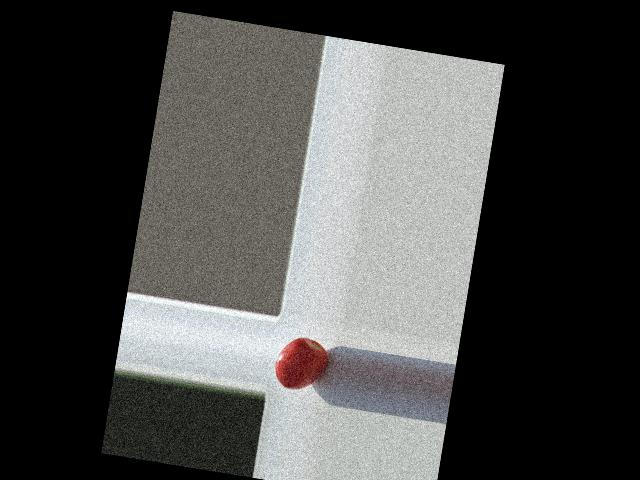tomato: (272, 334, 330, 394)
